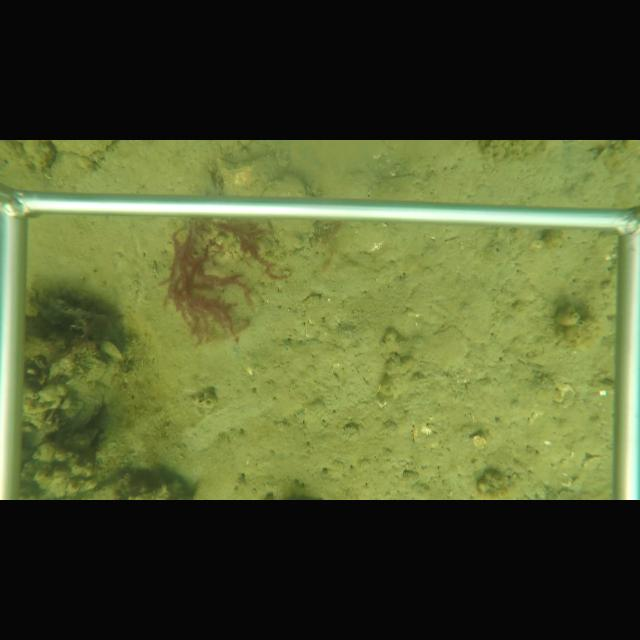Oyster-Closed: (222, 152, 289, 191), (263, 174, 316, 196)
